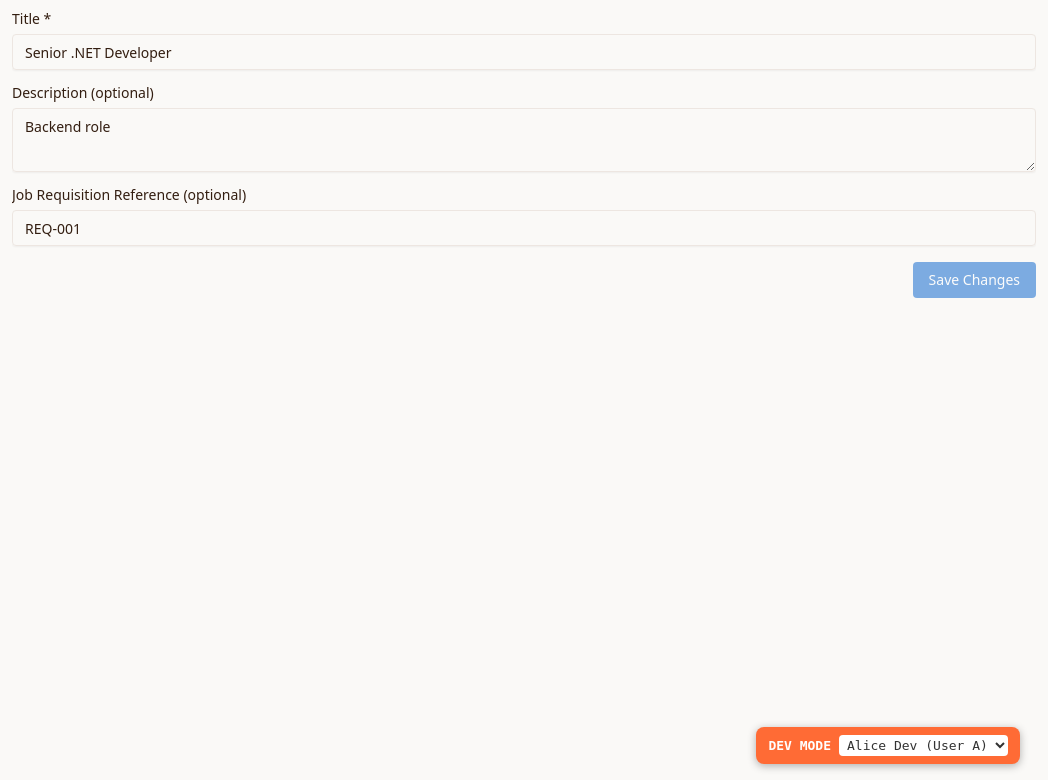
Test: EditRecruitmentForm › should show validation error for empty title on submit
Clear the field labelled "Title *" at (524, 52), box x1=12 y1=34 x2=1036 y2=70
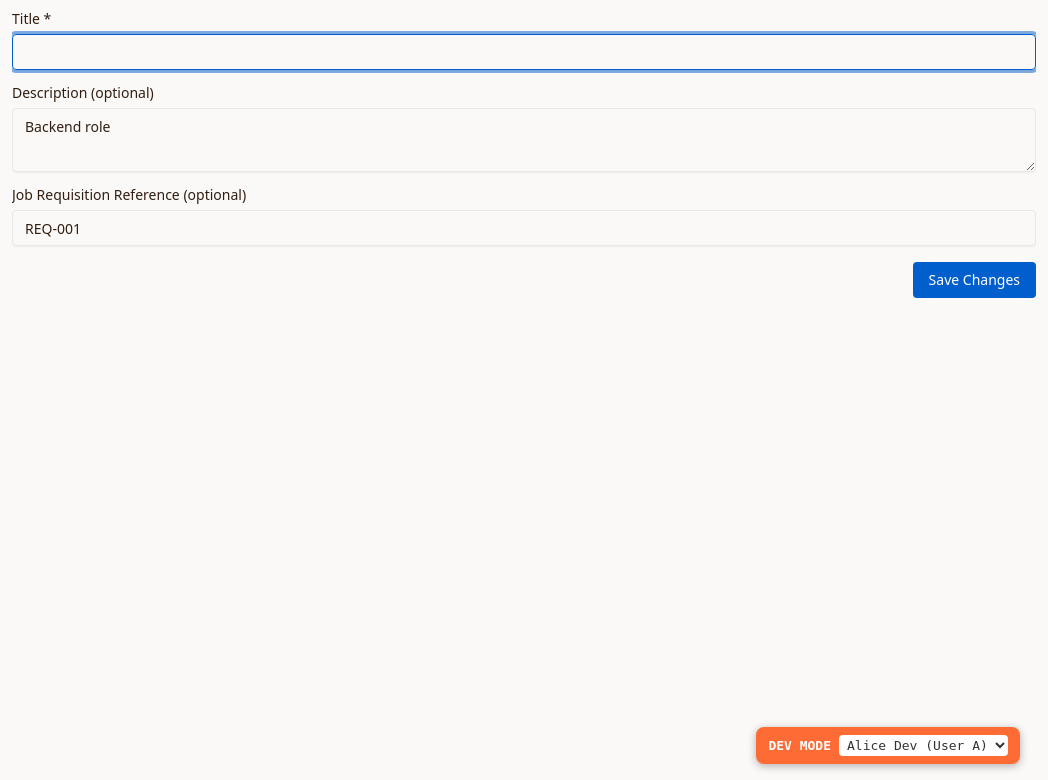
Click the button "Save Changes" at (974, 280), box x1=913 y1=262 x2=1036 y2=298
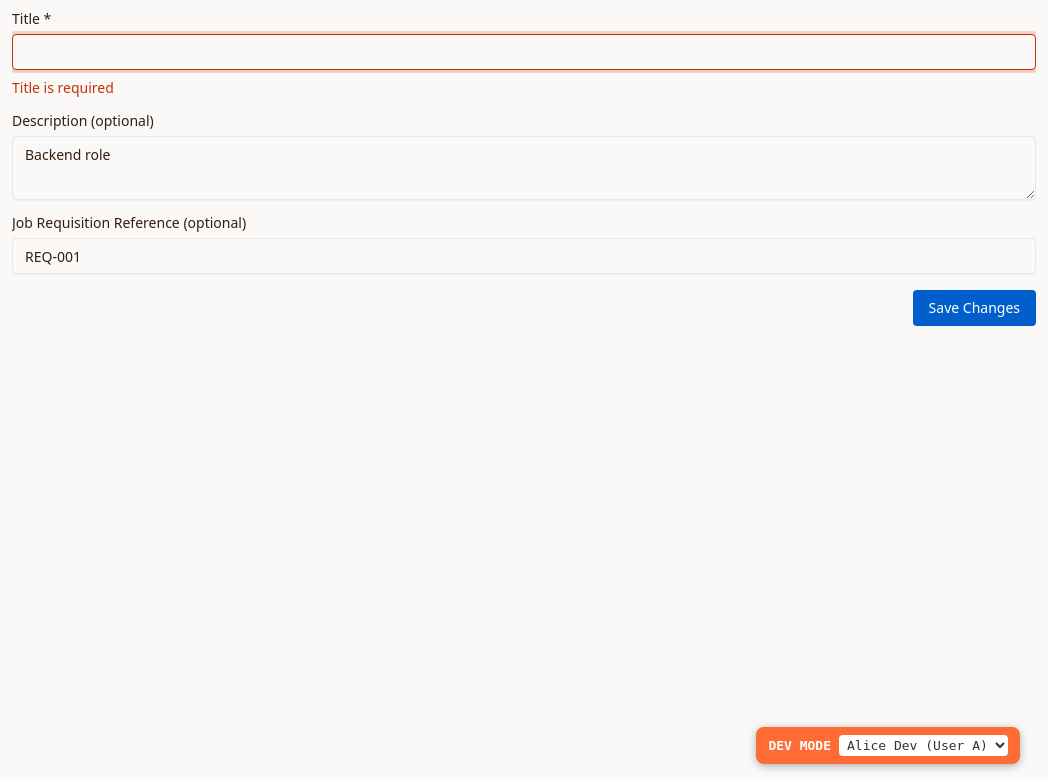
Check: the text "Title is required" is shown, box x1=12 y1=78 x2=114 y2=97
